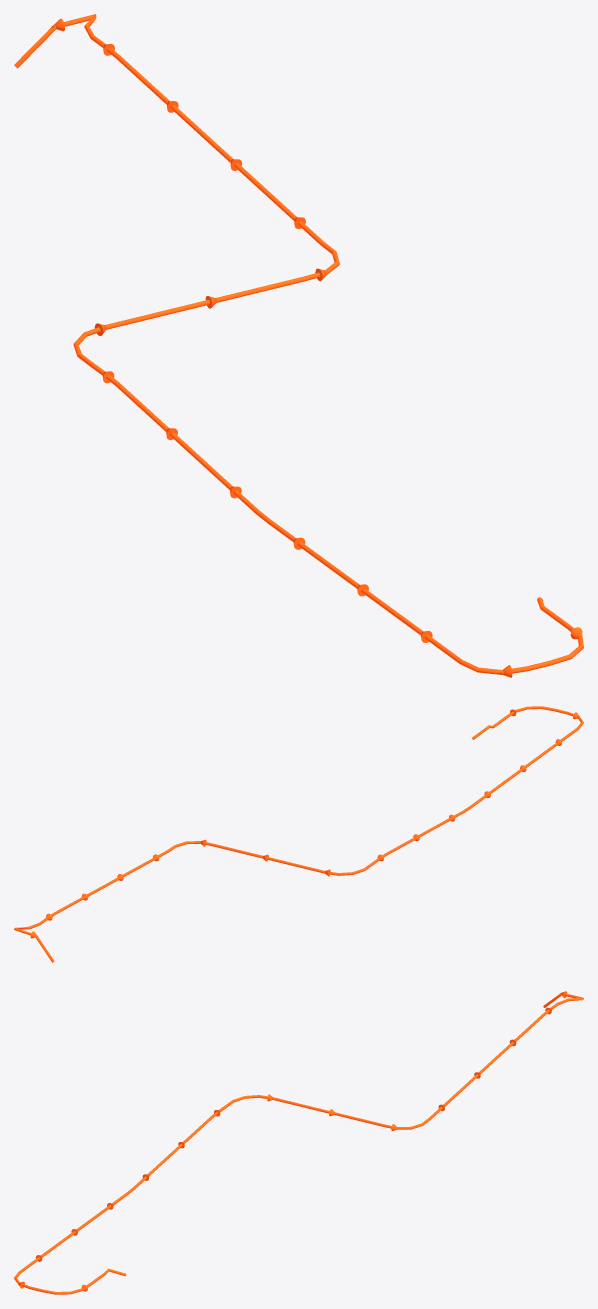
The model's file is m2p_mine_overview_flow.glb.
3 renders of one model, top to bottom at view 1: azimuth 30°, elevation 25°; view 2: azimuth 150°, elevation 25°; view 3: azimuth 330°, elevation 25°, orthographic. The views are drawn at different scales.
Visible parts, largest first — view 1: ore; view 2: ore; view 3: ore.
Boxes of the visible parts, box(x1,y1,x2,y2) form: ore: box(14, 14, 583, 677); ore: box(14, 706, 583, 962); ore: box(14, 991, 583, 1294).
Bounding box in the file's own units: 89.11 × 22.02 × 338.
